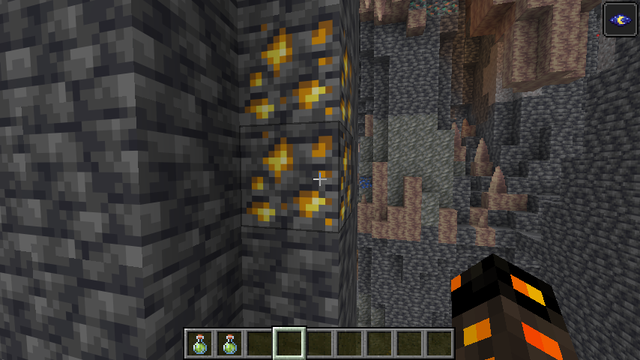gold: (237, 17, 352, 229)
